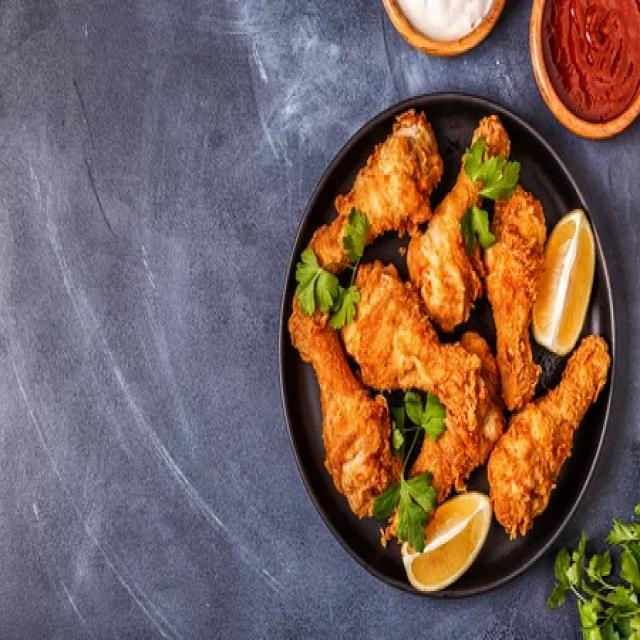Frango: (289, 111, 620, 544)
